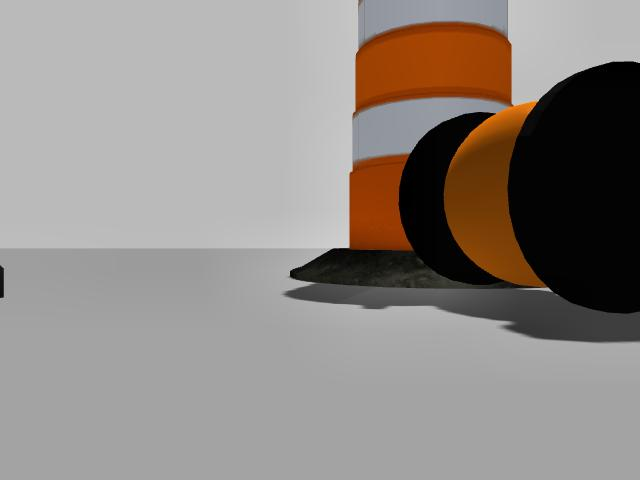target: (398, 61, 640, 314)
